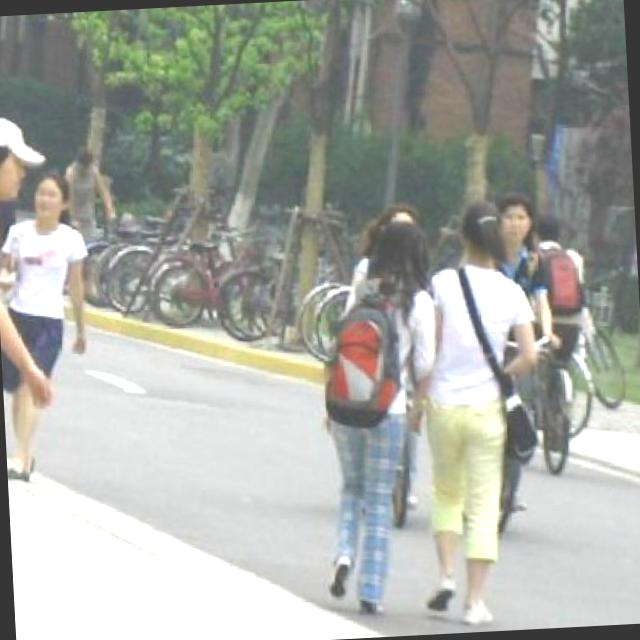Person: (421, 198, 554, 625), (310, 223, 441, 622), (0, 177, 100, 488)
